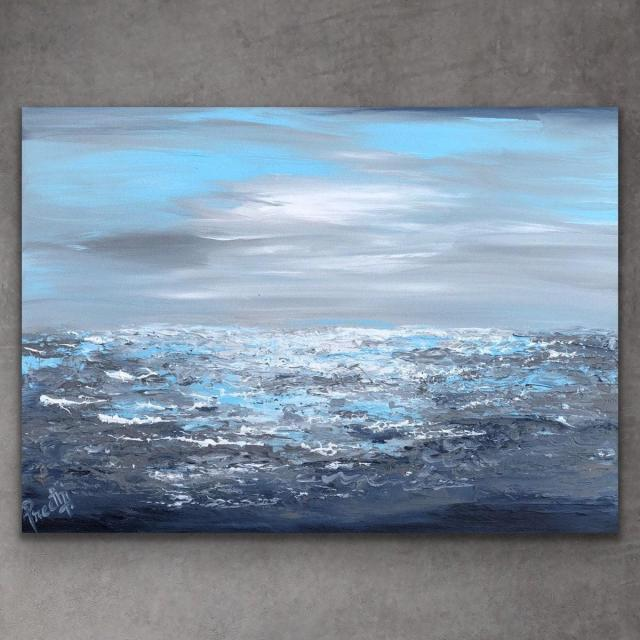painting: (22, 107, 616, 531)
